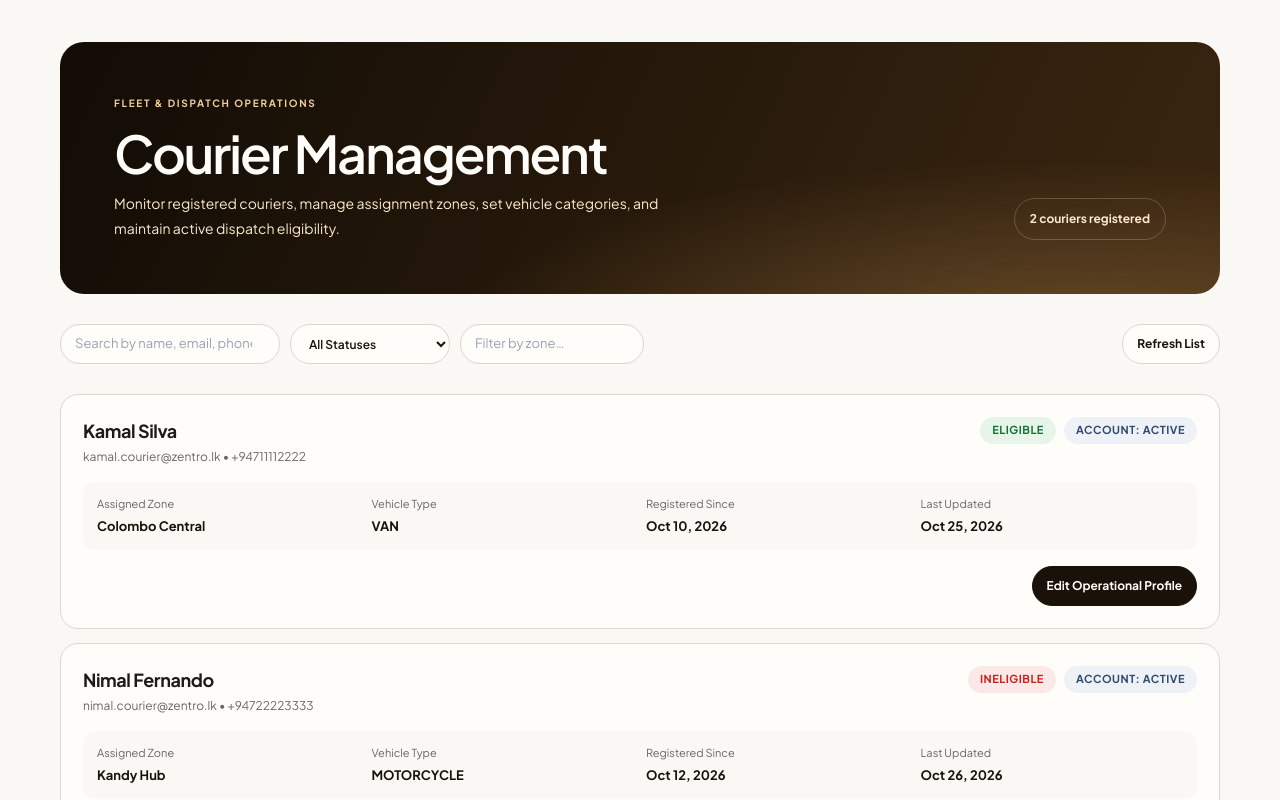
Test: CouriersPage (Dispatcher Portal) › opens edit modal and submits courier operational updates
expect the heading "Kamal Silva" is shown: met, box x1=83 y1=419 x2=177 y2=442
Click the button with aria-label "Edit profile for".
click(1114, 586)  # box x1=1032 y1=566 x2=1197 y2=606
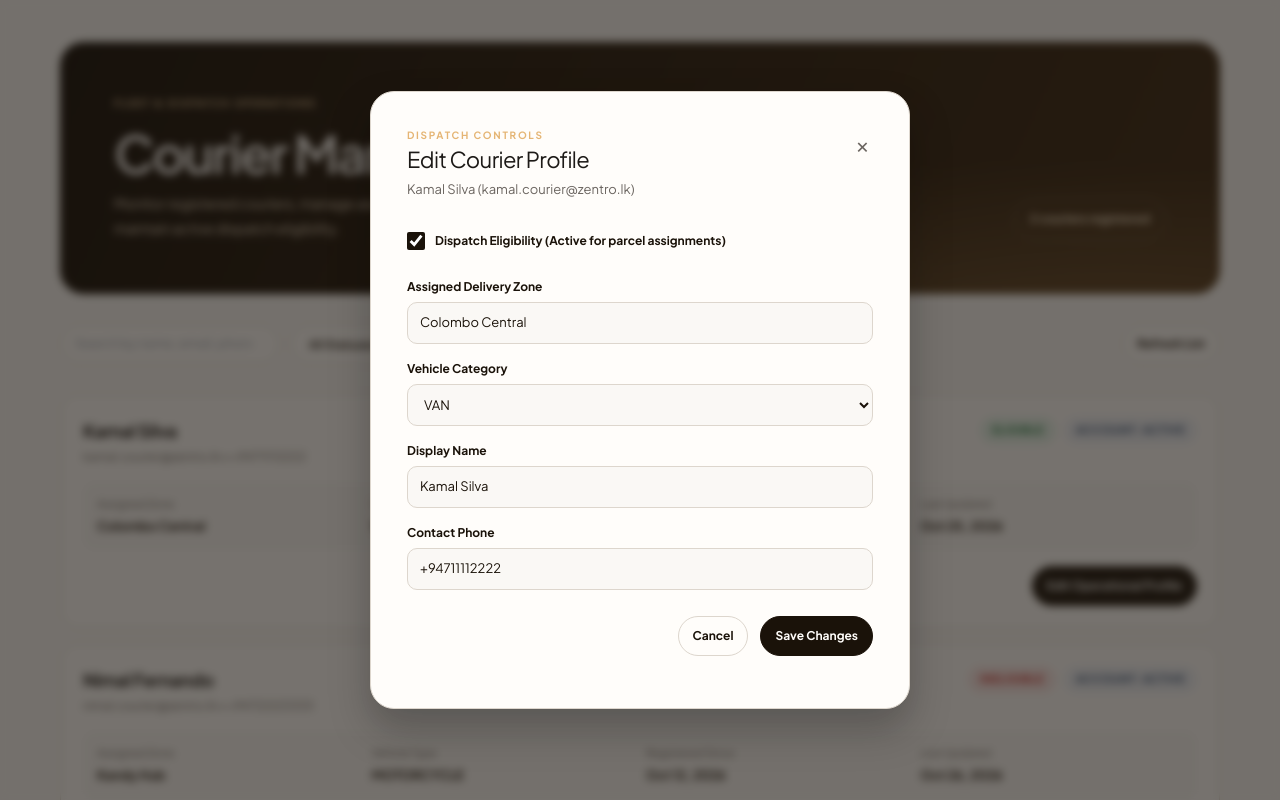
expect the dialog is shown: met
expect the heading "Edit Courier Profile" is shown: met, box x1=407 y1=145 x2=589 y2=173
Replace the text in the field labelled "Assigned Delivery Zone" with "Galle Zone" at {"x": 640, "y": 323}, box x1=407 y1=302 x2=873 y2=344
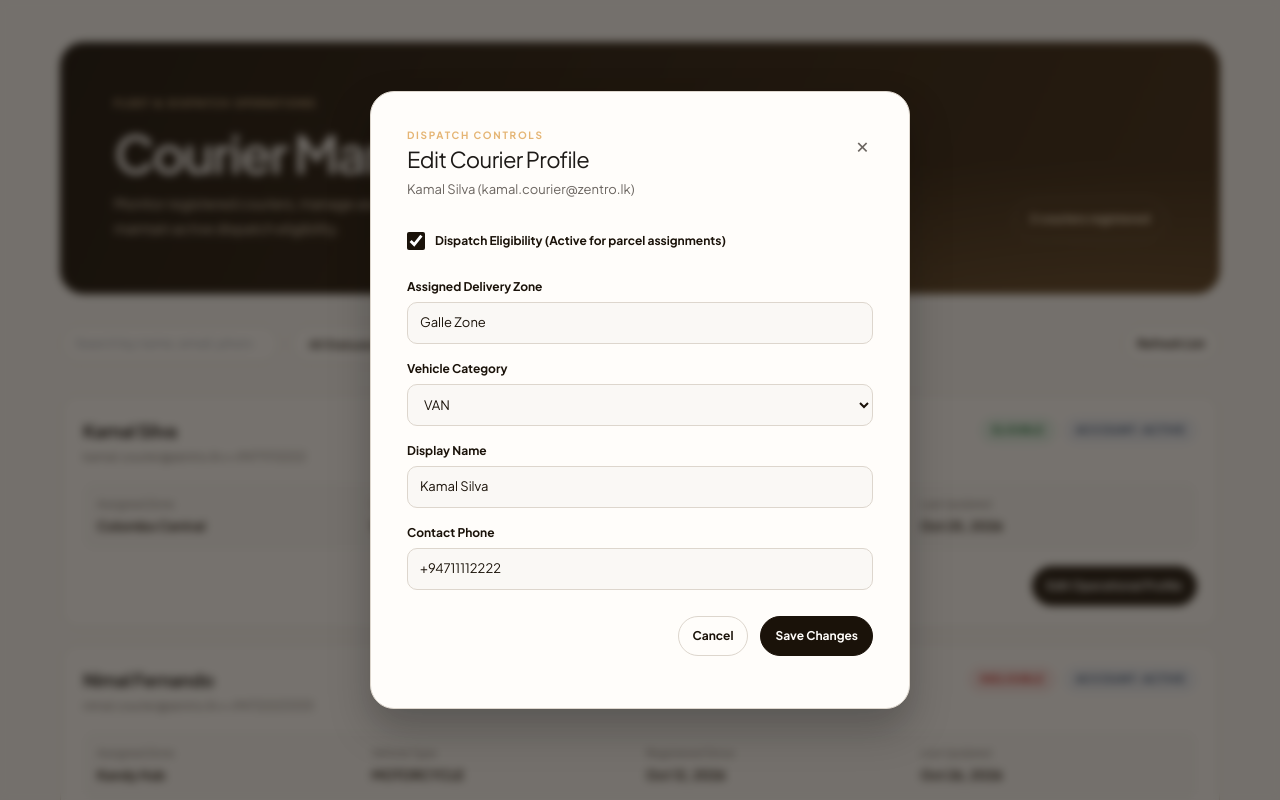
Select "TRUCK" in the dropdown labelled "Vehicle Category" at {"x": 640, "y": 405}, box x1=407 y1=384 x2=873 y2=426
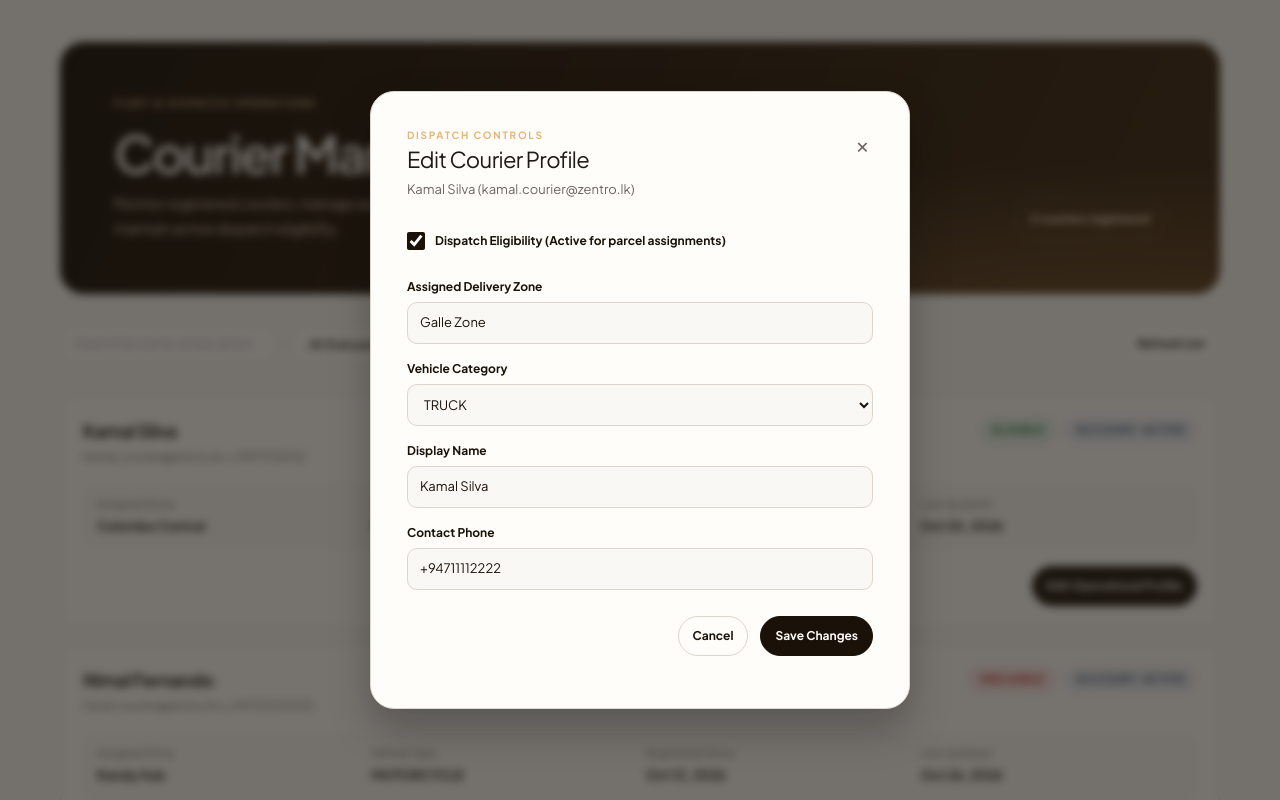
Click the button "Save Changes".
click(817, 636)  # box x1=760 y1=616 x2=873 y2=656
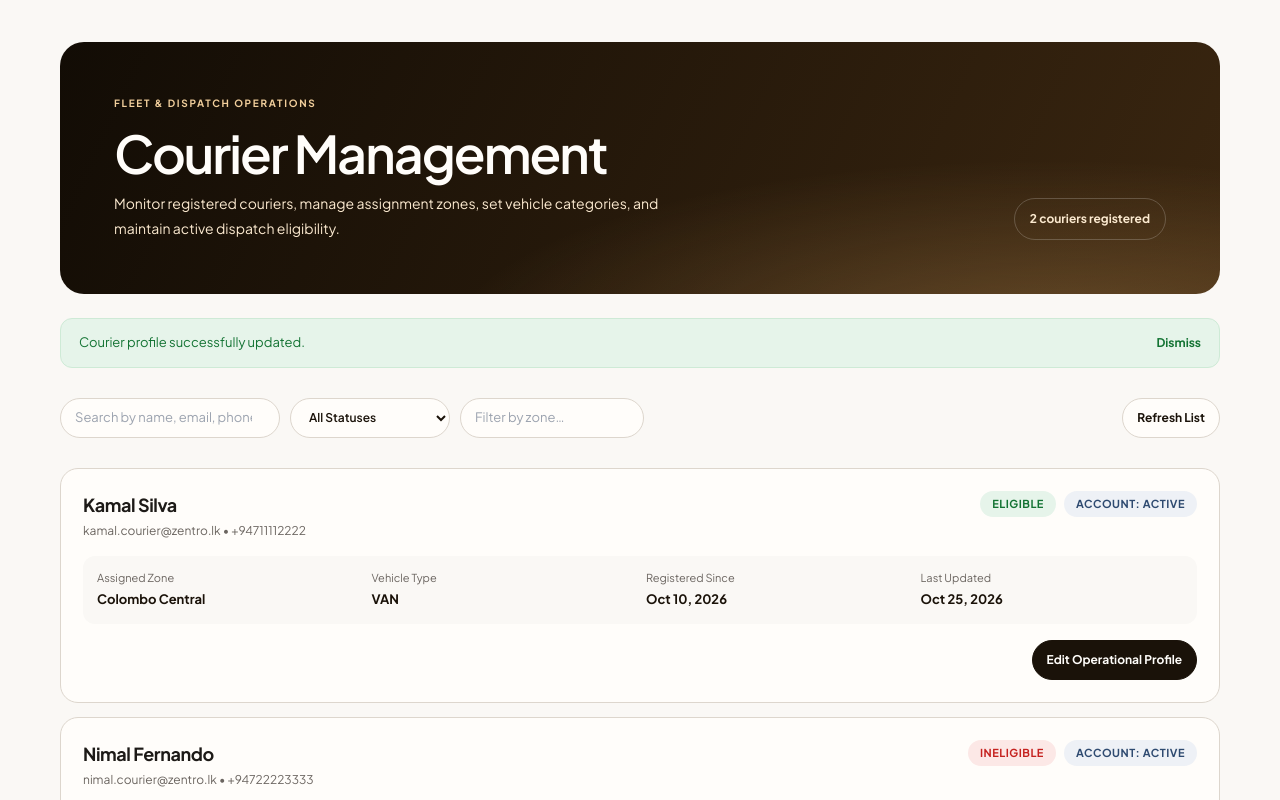
expect the text "Courier profile successfully updated." is shown: met, box x1=79 y1=333 x2=305 y2=353
